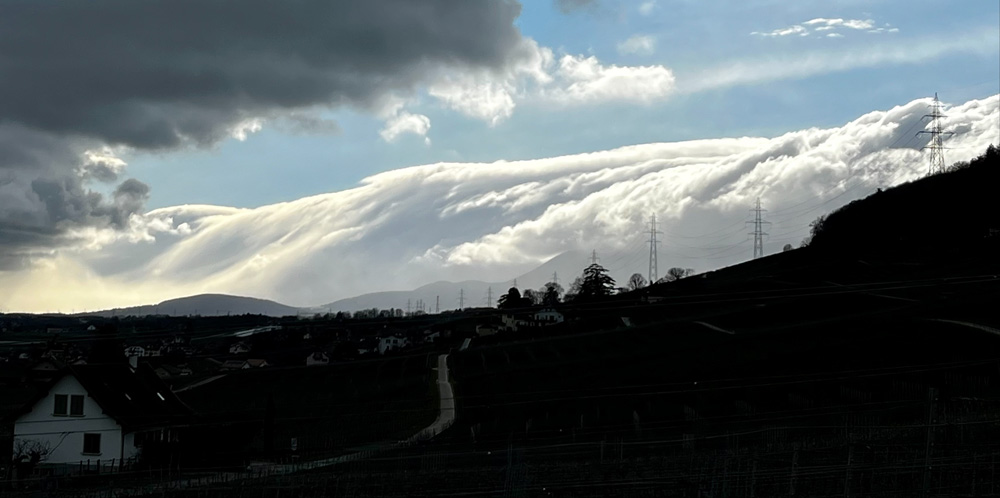Stratus: (59, 97, 990, 284)
